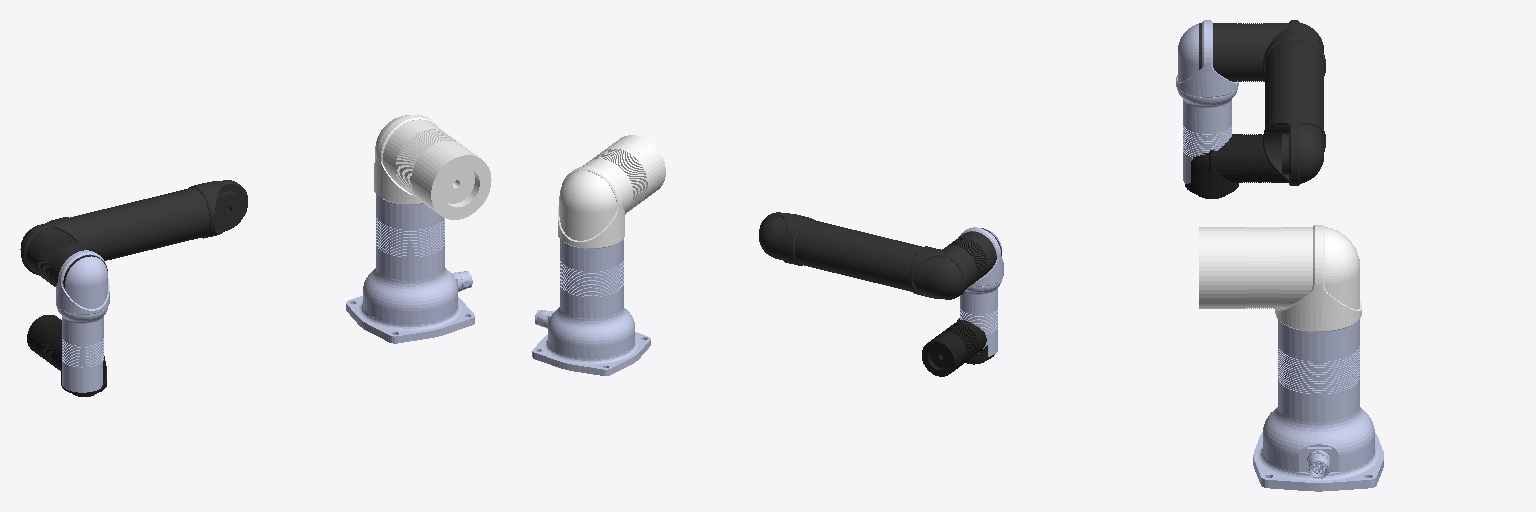
robot.urdf — d:
<?xml version="1.0" encoding="utf-8"?>
<!-- This URDF was automatically created by SolidWorks to URDF Exporter! Originally created by [author] ([email redacted]) 
     Commit Version: 1.6.0-4-g7f85cfe  Build Version: 1.6.7995.38578
     For more information, please see http://wiki.ros.org/sw_urdf_exporter -->
<robot
  name="d">
  <link
    name="base_link">
    <inertial>
      <origin
        xyz="0.0 0.0 0.0"
        rpy="0 0 0" />
      <mass
        value="0.000000" />
      <inertia
        ixx="0.000000"
        ixy="0.000000"
        ixz="0.000000"
        iyy="0.000000"
        iyz="0.000000"
        izz="0.000000" />
    </inertial>
    <visual>
      <origin
        xyz="0 0 0"
        rpy="0 0 0" />
      <geometry>
        <mesh
          filename="package://ros_solid/meshes/base_link.STL" />
      </geometry>
      <material
        name="">
        <color
          rgba="0.79216 0.81961 0.93333 1" />
      </material>
    </visual>
    <collision>
      <origin
        xyz="0 0 0"
        rpy="0 0 0" />
      <geometry>
        <mesh
          filename="package://ros_solid/meshes/base_link.STL" />
      </geometry>
    </collision>
  </link>
  <link
    name="link1">
    <inertial>
      <origin
        xyz="0.000000 -0.048113 -0.005173"
        rpy="0 0 0" />
      <mass
        value="2.635479" />
      <inertia
        ixx="0.00574463"
        ixy="0.00000001"
        ixz="0.000000"
        iyy="0.00314996"
        iyz="-0.0006622"
        izz="0.00545542" />
    </inertial>
    <visual>
      <origin
        xyz="0 0 0"
        rpy="0 0 0" />
      <geometry>
        <mesh
          filename="package://ros_solid/meshes/link1.STL" />
      </geometry>
      <material
        name="">
        <color
          rgba="1 1 1 1" />
      </material>
    </visual>
    <collision>
      <origin
        xyz="0 0 0"
        rpy="0 0 0" />
      <geometry>
        <mesh
          filename="package://ros_solid/meshes/link1.STL" />
      </geometry>
    </collision>
  </link>
  <joint
    name="joint1"
    type="revolute">
    <origin
      xyz="0.0 0.0 0.215"
      rpy="1.5707963 0 0" />
    <motor_params gear_ratio="100"
     rotor_inertia="0.000108" />
    <parent
      link="base_link" />
    <child
      link="link1" />
    <axis
      xyz="0 0 1" />
    <limit
      lower="-6.28"
      upper="6.28"
      effort="10"
      velocity="10" />
  </joint>
  <link
    name="link2">
    <inertial>
      <origin
        xyz="-0.18221343 0.000000 0.09945403"
        rpy="0 0 0" />
      <mass
        value="2.03639714" />
      <inertia
        ixx="0.00328492"
        ixy="0.000000"
        ixz="0.00467611"
        iyy="0.03067676"
        iyz="0.000000"
        izz="0.02924741" />
    </inertial>
    <visual>
      <origin
        xyz="0 0 0"
        rpy="0 0 0" />
      <geometry>
        <mesh
          filename="package://ros_solid/meshes/link2.STL" />
      </geometry>
      <material
        name="">
        <color
          rgba="0.24314 0.24314 0.24314 1" />
      </material>
    </visual>
    <collision>
      <origin
        xyz="0 0 0"
        rpy="0 0 0" />
      <geometry>
        <mesh
          filename="package://ros_solid/meshes/link2.STL" />
      </geometry>
    </collision>
  </link>
  <joint
    name="joint2"
    type="revolute">
    <origin
      xyz="-0.286 -0.0 0.119"
      rpy="0 0 0" />
    <motor_params gear_ratio="100"
     rotor_inertia="0.000108" />
    <parent
      link="link1" />
    <child
      link="link2" />
    <axis
      xyz="0 0 1" />
    <limit
      lower="-0.6108652382"
      upper="3.76991118431"
      effort="10"
      velocity="10" />
  </joint>
  <link
    name="link3">
    <inertial>
      <origin
        xyz="-0.19839838 0.000000 0.04913607"
        rpy="0 0 0" />
      <mass
        value="1.60265591" />
      <inertia
        ixx="0.00237088"
        ixy="-0.00000001"
        ixz="-0.0027249"
        iyy="0.01624523"
        iyz="0.00000000"
        izz="0.01492074" />
    </inertial>
    <visual>
      <origin
        xyz="0 0 0"
        rpy="0 0 0" />
      <geometry>
        <mesh
          filename="package://ros_solid/meshes/link3.STL" />
      </geometry>
      <material
        name="">
        <color
          rgba="0.24314 0.24314 0.24314 1" />
      </material>
    </visual>
    <collision>
      <origin
        xyz="0 0 0"
        rpy="0 0 0" />
      <geometry>
        <mesh
          filename="package://ros_solid/meshes/link3.STL" />
      </geometry>
    </collision>
  </link>
  <joint
    name="joint3"
    type="revolute">
    <origin
      xyz="-0.26 -0.0 -0.093"
      rpy="0 0 0" />
    <motor_params gear_ratio="100"
     rotor_inertia="0.000170" />
    <parent
      link="link2" />
    <child
      link="link3" />
    <axis
      xyz="0 0 1" />
    <limit
      lower="-2.79252680319"
      upper="2.79252680319"
      effort="10"
      velocity="10" />
  </joint>
  <link
    name="link4">
    <inertial>
      <origin
        xyz="0.000000 -0.07193817 0.1201976"
        rpy="0 0 0" />
      <mass
        value="0.83986351" />
      <inertia
        ixx="0.00167115"
        ixy="0.000000"
        ixz="0.000000"
        iyy="0.00037091"
        iyz="-0.00003977"
        izz="0.00171639" />
    </inertial>
    <visual>
      <origin
        xyz="0 0 0"
        rpy="0 0 0" />
      <geometry>
        <mesh
          filename="package://ros_solid/meshes/link4.STL" />
      </geometry>
      <material
        name="">
        <color
          rgba="0.79216 0.81961 0.93333 1" />
      </material>
    </visual>
    <collision>
      <origin
        xyz="0 0 0"
        rpy="0 0 0" />
      <geometry>
        <mesh
          filename="package://ros_solid/meshes/link4.STL" />
      </geometry>
    </collision>
  </link>
  <joint
    name="joint4"
    type="revolute">
    <origin
      xyz="0.0 0.0 0.093"
      rpy="1.5707963 0 0" />
    <motor_params gear_ratio="100"
     rotor_inertia="0.000170" />
    <parent
      link="link3" />
    <child
      link="link4" />
    <axis
      xyz="0 0 1" />
    <limit
      lower="-4.41568300755"
      upper="4.38077642251"
      effort="10"
      velocity="10" />
  </joint>
  <link
    name="link5">
    <inertial>
      <origin
        xyz="0.000000 0.03592275 0.1667588"
        rpy="0 0 0" />
      <mass
        value="0.69108633" />
      <inertia
        ixx="0.00074292"
        ixy="0"
        ixz="0"
        iyy="0.00029829"
        iyz="0.00007183"
        izz="0.00071953" />
    </inertial>
    <visual>
      <origin
        xyz="0 0 0"
        rpy="0 0 0" />
      <geometry>
        <mesh
          filename="package://ros_solid/meshes/link5.STL" />
      </geometry>
      <material
        name="">
        <color
          rgba="0.18039 0.18039 0.18039 1" />
      </material>
    </visual>
    <collision>
      <origin
        xyz="0 0 0"
        rpy="0 0 0" />
      <geometry>
        <mesh
          filename="package://ros_solid/meshes/link5.STL" />
      </geometry>
    </collision>
  </link>
  <joint
    name="joint5"
    type="revolute">
    <origin
      xyz="0.0 0.0 0.1681"
      rpy="-1.5707963 0 0" />
    <motor_params gear_ratio="100"
     rotor_inertia="0.0000083" />
    <parent
      link="link4" />
    <child
      link="link5" />
    <axis
      xyz="0 0 1" />
    <limit
      lower="-6.28"
      upper="6.28"
      effort="10"
      velocity="10" />
  </joint>
  <link
    name="link6">
    <inertial>
      <origin
        xyz="0.00171740 -0.00095207 0.02"
        rpy="0 0 0" />
      <mass
        value="0.20018162" />
      <inertia
        ixx="0.00008258"
        ixy="-0.00000345"
        ixz="0.00000022"
        iyy="0.00007742"
        iyz="-0.00000061"
        izz="0.00011673" />
    </inertial>
    <visual>
      <origin
        xyz="0 0 0"
        rpy="0 0 0" />
      <geometry>
        <mesh
          filename="package://ros_solid/meshes/link6.STL" />
      </geometry>
      <material
        name="">
        <color
          rgba="0.24314 0.24314 0.24314 1" />
      </material>
    </visual>
    <collision>
      <origin
        xyz="0 0 0"
        rpy="0 0 0" />
      <geometry>
        <mesh
          filename="package://ros_solid/meshes/link6.STL" />
      </geometry>
    </collision>
  </link>
  <joint
    name="joint6"
    type="revolute">
    <origin
      xyz="0.0 0.0 0.1196"
      rpy="0 0 0" />
    <motor_params gear_ratio="100"
     rotor_inertia="0.0000083" />
    <parent
      link="link5" />
    <child
      link="link6" />
    <axis
      xyz="0 0 1" />
    <limit
      lower="-6.28"
      upper="6.28"
      effort="10"
      velocity="10" />
  </joint>
</robot>

--- What the picture shows (computed from the rendered views, not written in the file) ---
Views: 3 orthographic renders of the robot side by side, from view 1: azimuth 30°, elevation 25°; view 2: azimuth 150°, elevation 25°; view 3: azimuth 270°, elevation 25°.
Model d with 7 links and 6 joints (6 revolute), rooted at base_link, posed all joints at 0.
Visible links, largest first — view 1: base_link, link3, link1, link4, link5; view 2: link3, base_link, link1, link5, link4; view 3: base_link, link1, link3, link4, link5.
Boxes of the visible links, x1,y1,x2,y2 form: base_link: (346, 194, 474, 343); link3: (20, 180, 247, 287); link1: (374, 115, 491, 219); link4: (56, 250, 109, 392); link5: (27, 315, 106, 396); link3: (759, 212, 1001, 299); base_link: (532, 239, 650, 375); link1: (558, 135, 665, 248); link5: (922, 318, 994, 376); link4: (958, 227, 1003, 356); base_link: (1253, 308, 1383, 491); link1: (1199, 225, 1361, 331); link3: (1199, 20, 1325, 185); link4: (1176, 20, 1238, 183); link5: (1185, 134, 1288, 198).
Bounding box of the posed robot: 0.6644 × 0.223 × 0.2775 m (x, y, z).
Meshes: 7 distinct files referenced, 5 mesh visuals loaded (5 binary STL); not drawn: 2 (reference not matched to a file when rendering).